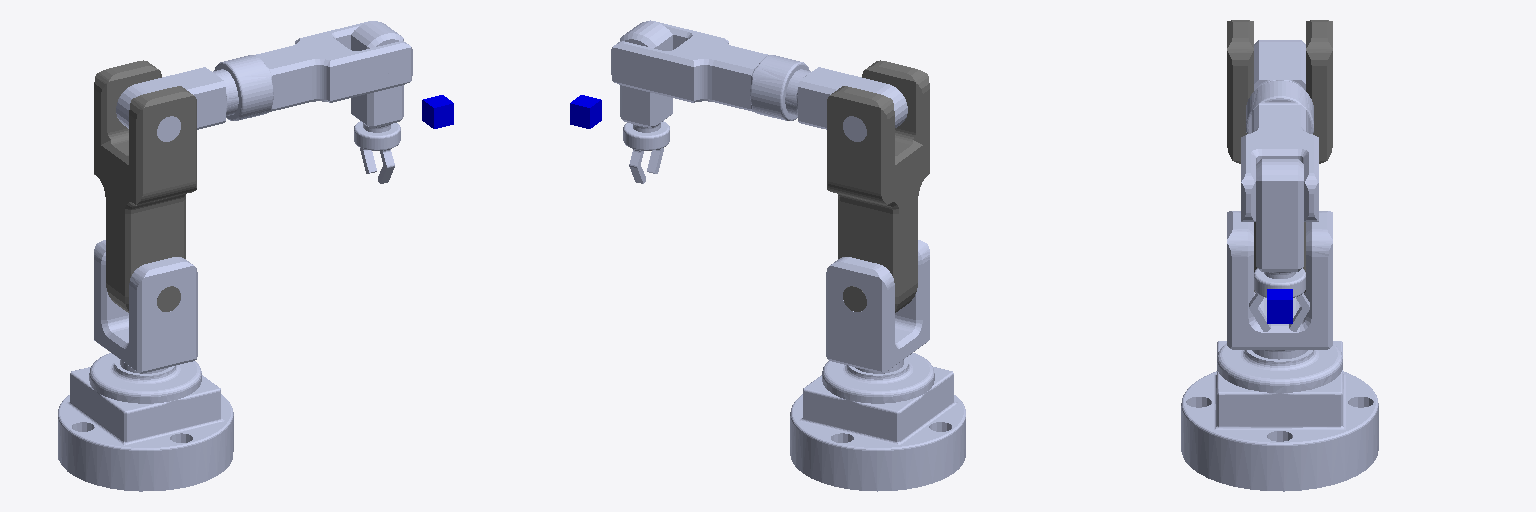
robot.urdf — rosbot_urdf:
<?xml version="1.0" encoding="utf-8" ?>
<!-- This URDF was automatically created by SolidWorks to URDF Exporter! Originally created by [author] ([email redacted]) 
     Commit Version: 1.6.0-4-g7f85cfe  Build Version: 1.6.7995.38578
     For more information, please see http://wiki.ros.org/sw_urdf_exporter -->
<robot name="rosbot_urdf">

    <link name="world"/>
    <joint name="base_joint" type="fixed">
	<parent link="world"/>
	<child link="base_link"/>
	<origin rpy="0 0 0" xyz="0.0 0.0 0.0"/>
    </joint>

    <link name="base_link">
        <inertial>
            <origin xyz="1.1473E-16 0.08432 6.9227E-16" rpy="0 0 0" />
            <mass value="15.751" />
            <inertia ixx="0.16005" ixy="1.1663E-16" ixz="1.0343E-16" iyy="0.22467" iyz="2.8199E-16" izz="0.16005" />
        </inertial>
        <visual>
            <origin xyz="0 0 0" rpy="0 0 0" />
            <geometry>
                <mesh filename="package://rosbot_urdf/meshes/base_link.STL" />
            </geometry>
            <material name="">
                <color rgba="0.79216 0.81961 0.93333 1" />
            </material>
        </visual>
        <collision>
            <origin xyz="0 0 0" rpy="0 0 0" />
            <geometry>
                <mesh filename="package://rosbot_urdf/meshes/base_link.STL" />
            </geometry>
        </collision>
    </link>
    <link name="link_1">
        <inertial>
            <origin xyz="-8.9882E-19 0.12615 -5.8092E-17" rpy="0 0 0" />
            <mass value="4.2774" />
            <inertia ixx="0.043593" ixy="4.1948E-18" ixz="4.6261E-09" iyy="0.026851" iyz="1.9231E-17" izz="0.031965" />
        </inertial>
        <visual>
            <origin xyz="0 0 0" rpy="0 0 0" />
            <geometry>
                <mesh filename="package://rosbot_urdf/meshes/link_1.STL" />
            </geometry>
            <material name="">
                <color rgba="0.79216 0.81961 0.93333 1" />
            </material>
        </visual>
        <collision>
            <origin xyz="0 0 0" rpy="0 0 0" />
            <geometry>
                <mesh filename="package://rosbot_urdf/meshes/link_1.STL" />
            </geometry>
        </collision>
    </link>
    <joint name="joint_1" type="revolute">
        <origin xyz="0 0 0.2" rpy="1.5708 0 -3.1416" />
        <parent link="base_link" />
        <child link="link_1" />
        <axis xyz="0 1 0" />
        <limit lower="-2.9671" upper="2.9671" effort="30" velocity="6.5" />
    </joint>
    <link name="link_2">
        <inertial>
            <origin xyz="4.0826E-05 0.20397 -4.9893E-08" rpy="0 0 0" />
            <mass value="9.2684" />
            <inertia ixx="0.21636" ixy="1.2197E-05" ixz="-3.3324E-08" iyy="0.041432" iyz="-1.0661E-07" izz="0.20763" />
        </inertial>
        <visual>
            <origin xyz="0 0 0" rpy="0 0 0" />
            <geometry>
                <mesh filename="package://rosbot_urdf/meshes/link_2.STL" />
            </geometry>
            <material name="">
                <color rgba="0.50196 0.50196 0.50196 1" />
            </material>
        </visual>
        <collision>
            <origin xyz="0 0 0" rpy="0 0 0" />
            <geometry>
                <mesh filename="package://rosbot_urdf/meshes/link_2.STL" />
            </geometry>
        </collision>
    </link>
    <joint name="joint_2" type="revolute">
        <origin xyz="0 0.205 0" rpy="0 0 0" />
        <parent link="link_1" />
        <child link="link_2" />
        <axis xyz="0 0 1" />
        <limit lower="-1.1345" upper="2.4435" effort="30" velocity="6.5" />
    </joint>
    <link name="link_3">
        <inertial>
            <origin xyz="-0.081421 0 1.6688E-16" rpy="0 0 0" />
            <mass value="2.7975" />
            <inertia ixx="0.0055105" ixy="1.2021E-18" ixz="-3.305E-18" iyy="0.020315" iyz="-7.3974E-13" izz="0.018663" />
        </inertial>
        <visual>
            <origin xyz="0 0 0" rpy="0 0 0" />
            <geometry>
                <mesh filename="package://rosbot_urdf/meshes/link_3.STL" />
            </geometry>
            <material name="">
                <color rgba="0.79216 0.81961 0.93333 1" />
            </material>
        </visual>
        <collision>
            <origin xyz="0 0 0" rpy="0 0 0" />
            <geometry>
                <mesh filename="package://rosbot_urdf/meshes/link_3.STL" />
            </geometry>
        </collision>
    </link>
    <joint name="joint_3" type="revolute">
        <origin xyz="0 0.4 0" rpy="0 0 0" />
        <parent link="link_2" />
        <child link="link_3" />
        <axis xyz="0 0 1" />
        <limit lower="-1.0472" upper="1.22173" effort="30" velocity="6.5" />
    </joint>
    <link name="link_4">
        <inertial>
            <origin xyz="-0.18964 -7.1054E-14 5.6688E-14" rpy="0 0 0" />
            <mass value="3.9492" />
            <inertia ixx="0.010077" ixy="2.2978E-14" ixz="8.8058E-12" iyy="0.050369" iyz="-1.4147E-09" izz="0.047227" />
        </inertial>
        <visual>
            <origin xyz="0 0 0" rpy="0 0 0" />
            <geometry>
                <mesh filename="package://rosbot_urdf/meshes/link_4.STL" />
            </geometry>
            <material name="">
                <color rgba="0.79216 0.81961 0.93333 1" />
            </material>
        </visual>
        <collision>
            <origin xyz="0 0 0" rpy="0 0 0" />
            <geometry>
                <mesh filename="package://rosbot_urdf/meshes/link_4.STL" />
            </geometry>
        </collision>
    </link>
    <joint name="joint_4" type="revolute">
        <origin xyz="-0.2 0 0" rpy="0 0 0" />
        <parent link="link_3" />
        <child link="link_4" />
        <axis xyz="1 0 0" />
        <limit lower="-4.7124" upper="4.7124" effort="30" velocity="6.5" />
    </joint>
    <link name="link_5">
        <inertial>
            <origin xyz="-0.049076 1.1102E-16 1.7391E-16" rpy="0 0 0" />
            <mass value="1.7741" />
            <inertia ixx="0.0023327" ixy="-3.5789E-21" ixz="-3.8632E-18" iyy="0.0083879" iyz="-1.6958E-13" izz="0.0081504" />
        </inertial>
        <visual>
            <origin xyz="0 0 0" rpy="0 0 0" />
            <geometry>
                <mesh filename="package://rosbot_urdf/meshes/link_5.STL" />
            </geometry>
            <material name="">
                <color rgba="0.79216 0.81961 0.93333 1" />
            </material>
        </visual>
        <collision>
            <origin xyz="0 0 0" rpy="0 0 0" />
            <geometry>
                <mesh filename="package://rosbot_urdf/meshes/link_5.STL" />
            </geometry>
        </collision>
    </link>
    <joint name="joint_5" type="revolute">
        <origin xyz="-0.37 0 0" rpy="0 0 1.5708" />
        <parent link="link_4" />
        <child link="link_5" />
        <axis xyz="0 0 -1" />
        <limit lower="-1.1345" upper="2.9671" effort="17" velocity="9.5" />
    </joint>
    <link name="link_6">
        <inertial>
            <origin xyz="-0.029903 0.00017669 -2.1498E-10" rpy="0 0 0" />
            <mass value="0.29255" />
            <inertia ixx="0.00040686" ixy="2.3274E-06" ixz="-7.721E-14" iyy="0.00036302" iyz="-4.0438E-12" izz="0.00044568" />
        </inertial>
        <visual>
            <origin xyz="0 0 0" rpy="0 0 0" />
            <geometry>
                <mesh filename="package://rosbot_urdf/meshes/link_6.STL" />
            </geometry>
            <material name="">
                <color rgba="0.79608 0.82353 0.93725 1" />
            </material>
        </visual>
        <collision>
            <origin xyz="0 0 0" rpy="0 0 0" />
            <geometry>
                <mesh filename="package://rosbot_urdf/meshes/link_6.STL" />
            </geometry>
        </collision>
    </link>
    <joint name="joint_6" type="revolute">
        <origin xyz="-0.168 0 0" rpy="-1.5708 0 0" />
        <parent link="link_5" />
        <child link="link_6" />
        <axis xyz="-1 0 0" />
        <limit lower="-6.1087" upper="6.1087" effort="10" velocity="17.5" />
    </joint>
    <link name="depth_camera_link">
      <inertial>
        <origin xyz="0 0 0" rpy="0 0 0"/>
        <mass value="0.1"/>
        <inertia ixx="1e-6" ixy="0.0" ixz="0.0" iyy="1e-6" iyz="0.0" izz="1e-6"/>
      </inertial>
      <visual>
        <origin xyz="0 0 0.05" rpy="0 0 0"/>
        <geometry>
          <box size="0.05 0.05 0.05"/>
        </geometry>
        <material name="blue">
          <color rgba="0.0 0.0 1.0 1.0"/>
        </material>
      </visual>
      <collision>
        <origin xyz="0 0 0.05" rpy="0 0 0"/>
        <geometry>
          <box size="0.05 0.05 0.05"/>
        </geometry>
      </collision>
    </link>

    <joint name="depth_camera_joint" type="fixed">
      <parent link="link_6"/>
      <child link="depth_camera_link"/>
      <origin xyz="0 0 0.1" rpy="0 0 0"/>
    </joint>

    <!-- GAZEBO SENSOR PLUGIN -->
    <gazebo reference="depth_camera_link">
      <sensor name="depth_camera_sensor" type="depth">
        <always_on>true</always_on>
        <update_rate>30</update_rate>
        <visualize>true</visualize>
        <camera>
          <horizontal_fov>1.047</horizontal_fov>
          <image>
            <width>640</width>
            <height>480</height>
            <format>R8G8B8</format>
          </image>
          <clip>
            <near>0.05</near>
            <far>5.0</far>
          </clip>
        </camera>
        <plugin name="depth_camera_controller" filename="libgazebo_ros_camera.so">
          <cameraName>depth_camera</cameraName>
          <always_on>true</always_on>
          <update_rate>30.0</update_rate>
          <frameName>depth_camera_link</frameName>
          <image_topic_name>image_raw</image_topic_name>
          <depth_image_topic_name>depth/image_raw</depth_image_topic_name>
          <camera_info_topic_name>camera_info</camera_info_topic_name>
          <robot_namespace>/depth_camera</robot_namespace>
        </plugin>
      </sensor>
    </gazebo>
    <transmission name="trans_joint_1">
        <type>transmission_interface/SimpleTransmission</type>
        <joint name="joint_1">
            <hardwareInterface>hardware_interface/PositionJointInterface</hardwareInterface>
        </joint>
        <actuator name="joint_1_motor">
            <hardwareInterface>hardware_interface/PositionJointInterface</hardwareInterface>
            <mechanicalReduction>1</mechanicalReduction>
        </actuator>
    </transmission>
    <transmission name="trans_joint_2">
        <type>transmission_interface/SimpleTransmission</type>
        <joint name="joint_2">
            <hardwareInterface>hardware_interface/PositionJointInterface</hardwareInterface>
        </joint>
        <actuator name="joint_2_motor">
            <hardwareInterface>hardware_interface/PositionJointInterface</hardwareInterface>
            <mechanicalReduction>1</mechanicalReduction>
        </actuator>
    </transmission>
    <transmission name="trans_joint_3">
        <type>transmission_interface/SimpleTransmission</type>
        <joint name="joint_3">
            <hardwareInterface>hardware_interface/PositionJointInterface</hardwareInterface>
        </joint>
        <actuator name="joint_3_motor">
            <hardwareInterface>hardware_interface/PositionJointInterface</hardwareInterface>
            <mechanicalReduction>1</mechanicalReduction>
        </actuator>
    </transmission>
    <transmission name="trans_joint_4">
        <type>transmission_interface/SimpleTransmission</type>
        <joint name="joint_4">
            <hardwareInterface>hardware_interface/PositionJointInterface</hardwareInterface>
        </joint>
        <actuator name="joint_4_motor">
            <hardwareInterface>hardware_interface/PositionJointInterface</hardwareInterface>
            <mechanicalReduction>1</mechanicalReduction>
        </actuator>
    </transmission>
    <transmission name="trans_joint_5">
        <type>transmission_interface/SimpleTransmission</type>
        <joint name="joint_5">
            <hardwareInterface>hardware_interface/PositionJointInterface</hardwareInterface>
        </joint>
        <actuator name="joint_5_motor">
            <hardwareInterface>hardware_interface/PositionJointInterface</hardwareInterface>
            <mechanicalReduction>1</mechanicalReduction>
        </actuator>
    </transmission>
    <transmission name="trans_joint_6">
        <type>transmission_interface/SimpleTransmission</type>
        <joint name="joint_6">
            <hardwareInterface>hardware_interface/PositionJointInterface</hardwareInterface>
        </joint>
        <actuator name="joint_6_motor">
            <hardwareInterface>hardware_interface/PositionJointInterface</hardwareInterface>
            <mechanicalReduction>1</mechanicalReduction>
        </actuator>
    </transmission>
    <gazebo>
        <plugin name="gazebo_ros_control" filename="libgazebo_ros_control.so">
            <robotNamespace>/</robotNamespace>
        </plugin>
    </gazebo>
</robot>

--- Facts derived from the render (not from the file) ---
Views: 3 orthographic renders of the robot side by side, from view 1: azimuth 30°, elevation 25°; view 2: azimuth 150°, elevation 25°; view 3: azimuth 270°, elevation 25°.
Model rosbot_urdf with 9 links and 8 joints (6 revolute, 2 fixed), rooted at world, posed every joint at zero.
Links seen in each view (by area): view 1: base_link, link_2, link_4, link_1, link_3, link_5, link_6, depth_camera_link; view 2: base_link, link_2, link_4, link_1, link_3, link_5, link_6, depth_camera_link; view 3: base_link, link_1, link_4, link_2, link_5, link_3, link_6, depth_camera_link.
Link boxes in pixels (bbox=[...]): base_link: bbox=[58, 353, 233, 491]; link_2: bbox=[94, 60, 196, 312]; link_4: bbox=[214, 21, 412, 120]; link_1: bbox=[94, 240, 197, 373]; link_3: bbox=[116, 67, 238, 141]; link_5: bbox=[351, 21, 403, 132]; link_6: bbox=[354, 121, 400, 183]; depth_camera_link: bbox=[422, 95, 453, 128]; base_link: bbox=[790, 353, 965, 491]; link_2: bbox=[827, 60, 929, 312]; link_4: bbox=[611, 20, 809, 120]; link_1: bbox=[826, 240, 929, 373]; link_3: bbox=[785, 67, 907, 141]; link_5: bbox=[620, 21, 672, 132]; link_6: bbox=[623, 121, 669, 183]; depth_camera_link: bbox=[570, 95, 601, 128]; base_link: bbox=[1181, 341, 1378, 491]; link_1: bbox=[1227, 211, 1332, 359]; link_4: bbox=[1241, 80, 1318, 221]; link_2: bbox=[1227, 20, 1332, 292]; link_5: bbox=[1256, 159, 1303, 278]; link_3: bbox=[1254, 40, 1305, 90]; link_6: bbox=[1249, 268, 1309, 331]; depth_camera_link: bbox=[1267, 289, 1292, 323].
Bounding box of the posed robot: 0.9323 × 0.375 × 0.88 m (x, y, z).
Meshes: 7 distinct files referenced, 7 mesh visuals loaded (7 binary STL).